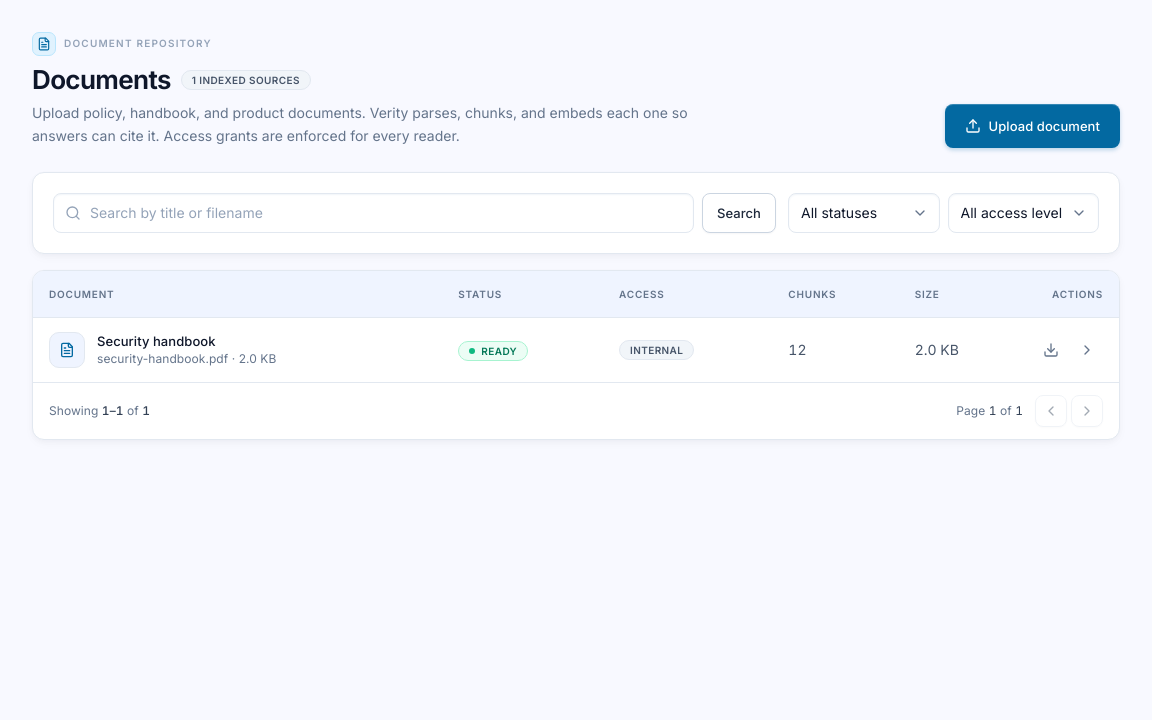
Test: Documents page › lists accessible documents and opens the admin detail panel
The image size is (1152, 720).
Expected: the button "Security handbook" is shown, [97,332,216,350]
Expected: the row "Security handbook" is shown, [33,317,1119,382]
Click the button named "Open Security handbook" at (1087, 350), box [1071,334,1103,366]
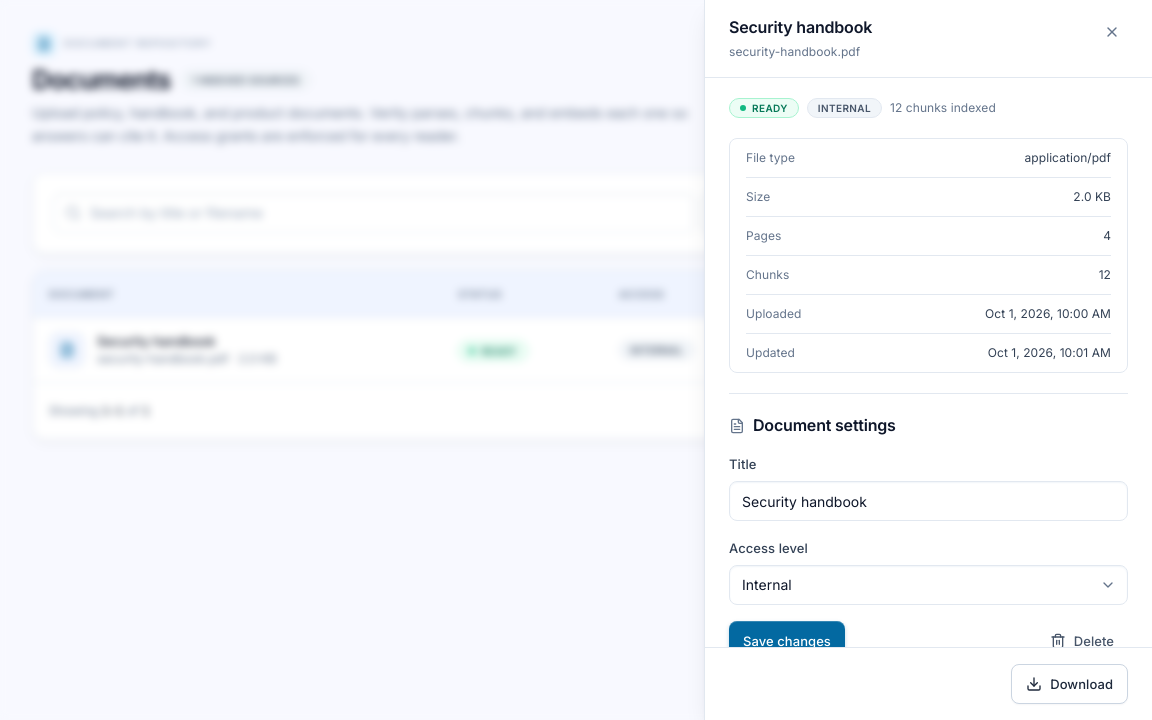
Now the heading "Document settings" is shown, box [753,414,896,437]
Now the dropdown labelled "Access level" shows "Internal", box [729,565,1128,605]
